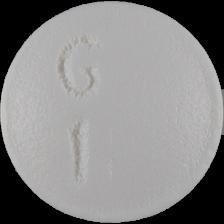24236-879: (0, 0, 224, 224)
